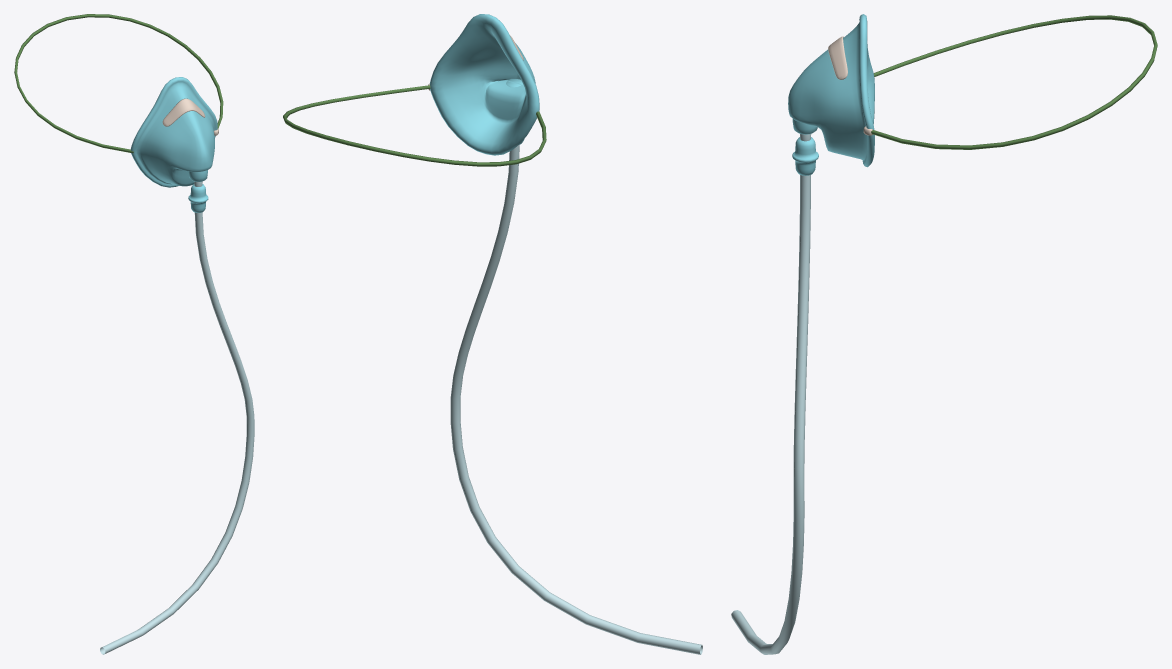
File: stylized_low_poly_3d_oxygen_face_mask.glb
3 views of the same model, side by side, from view 1: azimuth 30°, elevation 25°; view 2: azimuth 150°, elevation 25°; view 3: azimuth 270°, elevation 25° (orthographic). The views are drawn at different scales.
Parts seen in each view (by area): view 1: oxygen-mask_2, thread2_0, thread_1; view 2: oxygen-mask_2, thread2_0, thread_1; view 3: oxygen-mask_2, thread2_0, thread_1.
Part boxes in pixels (<box>): oxygen-mask_2: <box>130,77,218,212</box>; thread2_0: <box>100,212,254,654</box>; thread_1: <box>14,14,223,153</box>; oxygen-mask_2: <box>428,14,539,155</box>; thread2_0: <box>450,145,702,654</box>; thread_1: <box>283,85,546,166</box>; oxygen-mask_2: <box>788,14,874,175</box>; thread2_0: <box>731,175,810,654</box>; thread_1: <box>871,15,1157,149</box>.
Bounding box in the file's own units: 0.3101 × 0.7228 × 0.4095.
